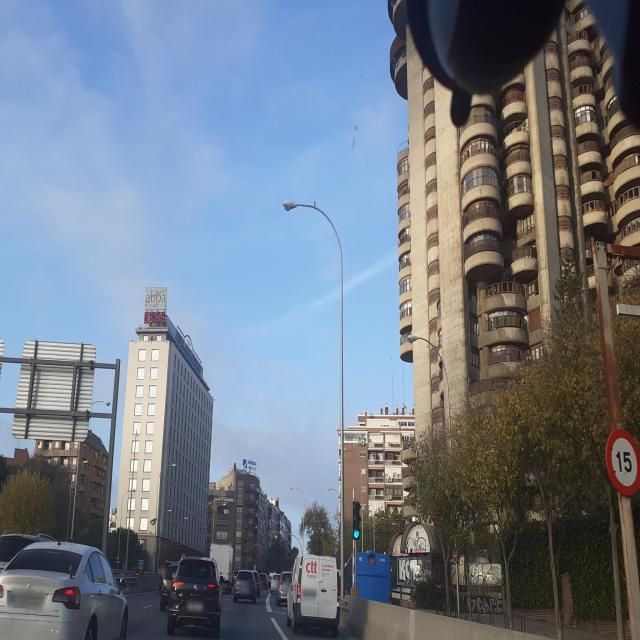car: (0, 540, 128, 638), (286, 552, 340, 636), (167, 555, 222, 637), (0, 532, 55, 580), (160, 561, 180, 611), (232, 569, 257, 603), (276, 570, 292, 606), (270, 572, 279, 594)
